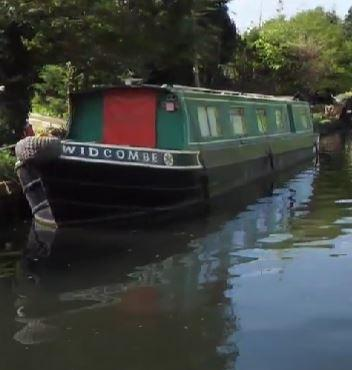Ship: (59, 71, 318, 199)
